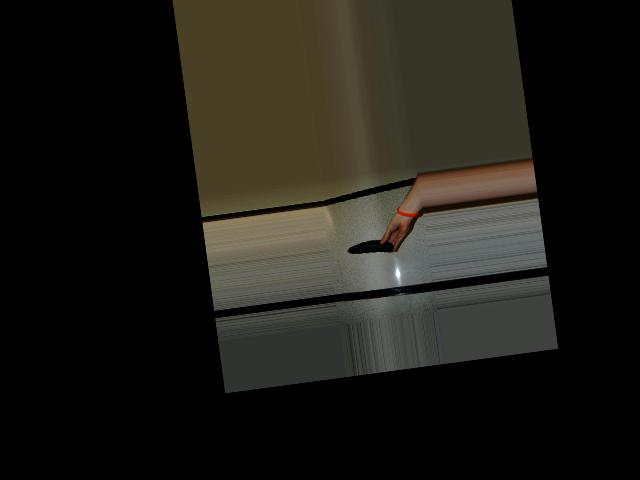cucumber: (346, 238, 394, 257)
